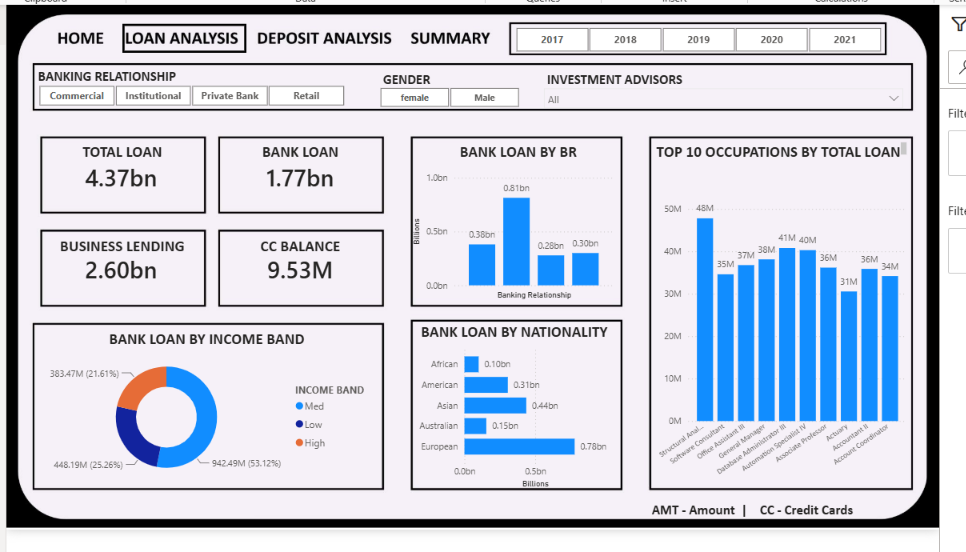

The dashboard page shown, as its layout file describes it:
{"tool":"powerbi","page":{"name":"LOAN ANALYSIS","canvas":[1280,720],"ordinal":1},"visuals":[{"type":"slicer","fields":{"Values":["Date.Joined Bank - Copy"]},"box":[674.4,24.1,550.1,45.8],"z":0},{"type":"textbox","box":[49.4,183.9,219.6,39.8],"z":1000},{"type":"textbox","box":[293.7,183.9,219.6,39.8],"z":2000},{"type":"textbox","box":[49.4,312.9,219.6,37],"z":3000},{"type":"textbox","box":[293.7,312.9,219.6,39.8],"z":4000},{"type":"textbox","box":[38.4,440.5,473.4,39.8],"z":5000},{"type":"textbox","box":[564,183.9,277.2,39.8],"z":6000},{"type":"textbox","box":[553,430.9,288.2,39.8],"z":7000},{"type":"textbox","box":[886.5,183.9,354,39.8],"z":8000},{"type":"cardVisual","fields":{"Data":["BANKING_CASE.Total loan"]},"box":[49.4,183.9,216.8,101.5],"z":9000},{"type":"cardVisual","fields":{"Data":["Sum(BANKING_CASE.Business Lending)"]},"box":[49.4,312.9,216.8,96.1],"z":10000},{"type":"cardVisual","fields":{"Data":["Sum(BANKING_CASE.Bank Loans)"]},"box":[293.7,183.9,219.6,101.5],"z":11000},{"type":"cardVisual","fields":{"Data":["Sum(BANKING_CASE.Credit Card Balance)"]},"box":[293.7,312.9,219.6,96.1],"z":12000},{"type":"clusteredBarChart","fields":{"Y":["Sum(BANKING_CASE.Bank Loans)"],"Category":["BANKING_CASE.Nationality"]},"box":[555.7,458.3,288.2,209.9],"z":13000},{"type":"columnChart","fields":{"Category":["banking_case realtionships.Banking Relationship"],"Y":["Sum(BANKING_CASE.Bank Loans)"]},"box":[553,223.7,285.4,185.2],"z":14000},{"type":"donutChart","fields":{"Y":["Sum(BANKING_CASE.Bank Loans)"],"Category":["BANKING_CASE.income band"]},"box":[38.4,470.7,474.8,190.7],"z":15000},{"type":"columnChart","fields":{"Category":["BANKING_CASE.Occupation"],"Y":["BANKING_CASE.Total loan"]},"box":[886.5,255.2,354,406.2],"z":16000},{"type":"slicer","fields":{"Values":["banking_case realtionships.Banking Relationship"]},"box":[19.2,104.3,467.9,39.8],"z":17000},{"type":"textbox","box":[38.4,82.3,227.8,42.5],"z":18000},{"type":"textbox","box":[511.3,86.2,83.7,39.8],"z":19000},{"type":"slicer","fields":{"Values":["BANKING_CASE.GenderId"]},"box":[486.6,106.8,240.1,38.4],"z":20000},{"type":"textbox","box":[736.9,86.4,212.7,38.4],"z":21000},{"type":"slicer","fields":{"Values":["banking_case investment_advisiors.Investment Advisor"]},"box":[727.3,104.3,513.2,39.8],"z":22000},{"type":"actionButton","box":[52.1,24.7,100.2,39.8],"z":23000},{"type":"actionButton","box":[159.2,26.1,170.2,39.8],"z":24000},{"type":"actionButton","box":[338.9,26.1,190.7,39.8],"z":25000},{"type":"actionButton","box":[544.8,24.7,129,39.8],"z":26000},{"type":"textbox","box":[766.8,676.1,513.2,43.9],"z":27000}]}

Visuals, with their boxes on the page's 1280x720 design canvas (x1, y1, x2, y2). These are canvas units, not pixel positions in the 966x552 screenshot, which may show the page scaled, cropped or inside an application window:
slicer - Date.Joined Bank - Copy: x1=674 y1=24 x2=1224 y2=70
textbox: x1=49 y1=184 x2=269 y2=224
textbox: x1=294 y1=184 x2=513 y2=224
textbox: x1=49 y1=313 x2=269 y2=350
textbox: x1=294 y1=313 x2=513 y2=353
textbox: x1=38 y1=440 x2=512 y2=480
textbox: x1=564 y1=184 x2=841 y2=224
textbox: x1=553 y1=431 x2=841 y2=471
textbox: x1=886 y1=184 x2=1240 y2=224
cardVisual - BANKING_CASE.Total loan: x1=49 y1=184 x2=266 y2=285
cardVisual - Sum(BANKING_CASE.Business Lending): x1=49 y1=313 x2=266 y2=409
cardVisual - Sum(BANKING_CASE.Bank Loans): x1=294 y1=184 x2=513 y2=285
cardVisual - Sum(BANKING_CASE.Credit Card Balance): x1=294 y1=313 x2=513 y2=409
clusteredBarChart - Sum(BANKING_CASE.Bank Loans) x BANKING_CASE.Nationality: x1=556 y1=458 x2=844 y2=668
columnChart - banking_case realtionships.Banking Relationship x Sum(BANKING_CASE.Bank Loans): x1=553 y1=224 x2=838 y2=409
donutChart - Sum(BANKING_CASE.Bank Loans) x BANKING_CASE.income band: x1=38 y1=471 x2=513 y2=661
columnChart - BANKING_CASE.Occupation x BANKING_CASE.Total loan: x1=886 y1=255 x2=1240 y2=661
slicer - banking_case realtionships.Banking Relationship: x1=19 y1=104 x2=487 y2=144
textbox: x1=38 y1=82 x2=266 y2=125
textbox: x1=511 y1=86 x2=595 y2=126
slicer - BANKING_CASE.GenderId: x1=487 y1=107 x2=727 y2=145
textbox: x1=737 y1=86 x2=950 y2=125
slicer - banking_case investment_advisiors.Investment Advisor: x1=727 y1=104 x2=1240 y2=144
actionButton: x1=52 y1=25 x2=152 y2=64
actionButton: x1=159 y1=26 x2=329 y2=66
actionButton: x1=339 y1=26 x2=530 y2=66
actionButton: x1=545 y1=25 x2=674 y2=64
textbox: x1=767 y1=676 x2=1280 y2=720
